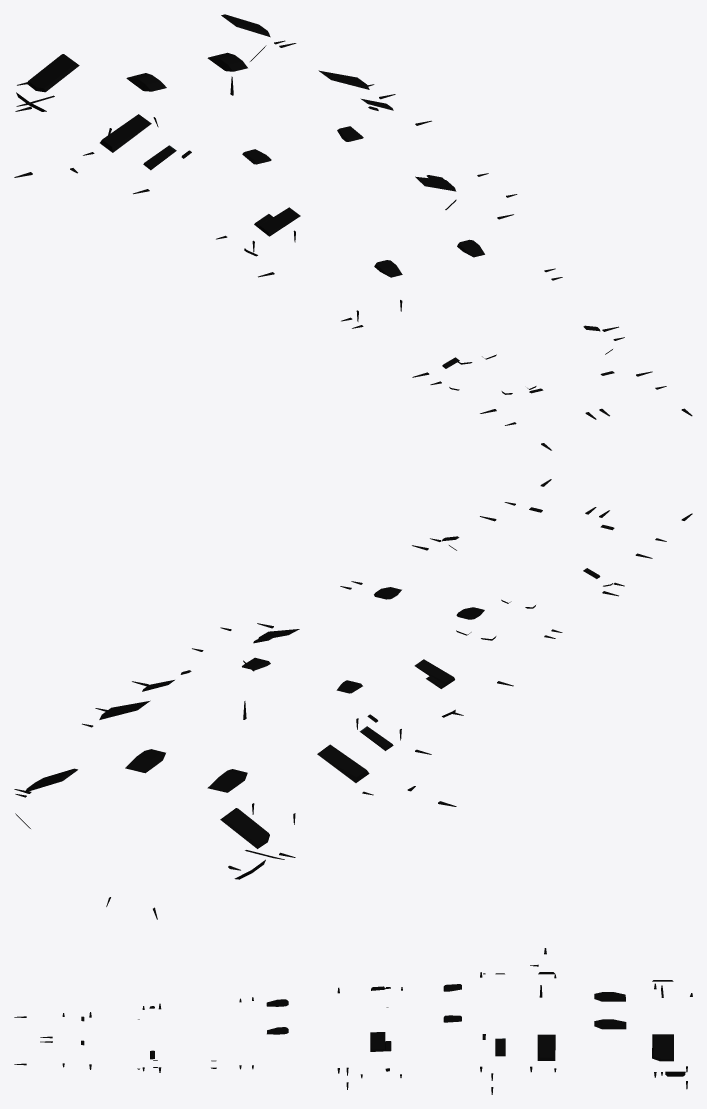
The model's file is hgn_fs_batt_01.glb.
3 renders of one model, top to bottom at view 1: azimuth 30°, elevation 25°; view 2: azimuth 150°, elevation 25°; view 3: azimuth 270°, elevation 25°, orthographic. The views are drawn at different scales.
Parts seen in each view (by area): view 1: hgn_flagship_battleship_01_LOD0; view 2: hgn_flagship_battleship_01_LOD0; view 3: hgn_flagship_battleship_01_LOD0.
Boxes of the visible parts, bbox=[...] form: hgn_flagship_battleship_01_LOD0: bbox=[14, 14, 692, 450]; hgn_flagship_battleship_01_LOD0: bbox=[14, 479, 692, 919]; hgn_flagship_battleship_01_LOD0: bbox=[14, 948, 692, 1094].
Size of what is drawn, in the model's own units: 6.96 by 2.63 by 16.04.
Materials: 1 (1 with a texture image).
